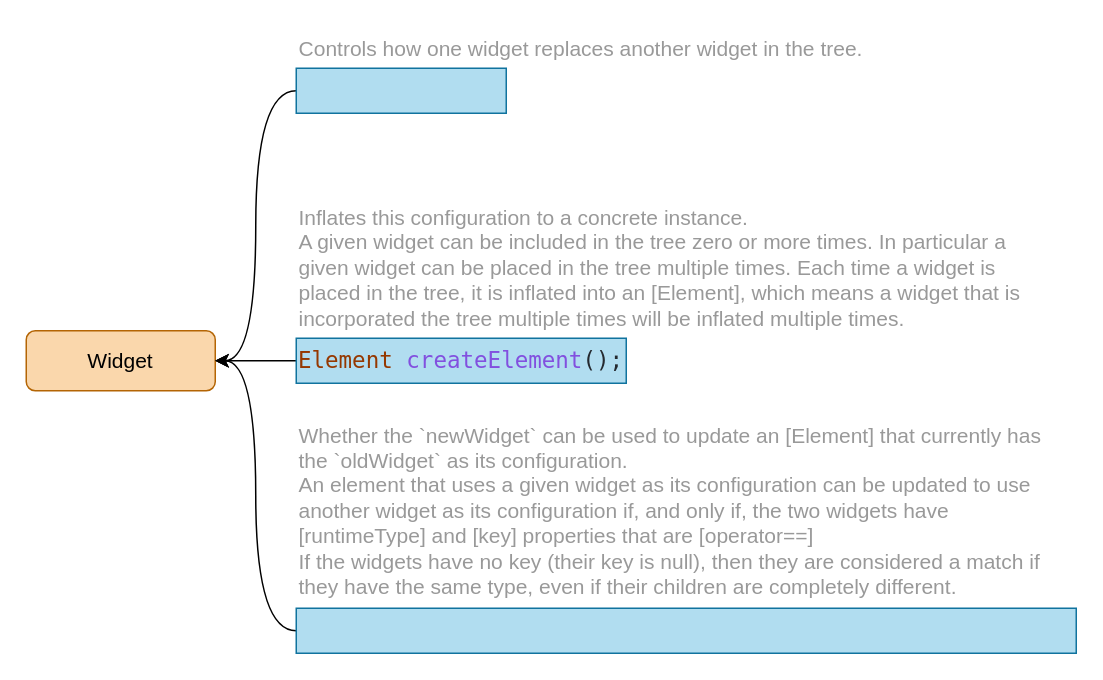
Some shapes in this 1103 by 680 pixel diagram are drawn without their labels. Here are the shapes that lost their labels. From the top down, the box of each, then its label:
(295, 67, 506, 113): final Key ? key ;
(295, 607, 1076, 653): static bool canUpdate ( Widget oldWidget , Widget newWidget )
